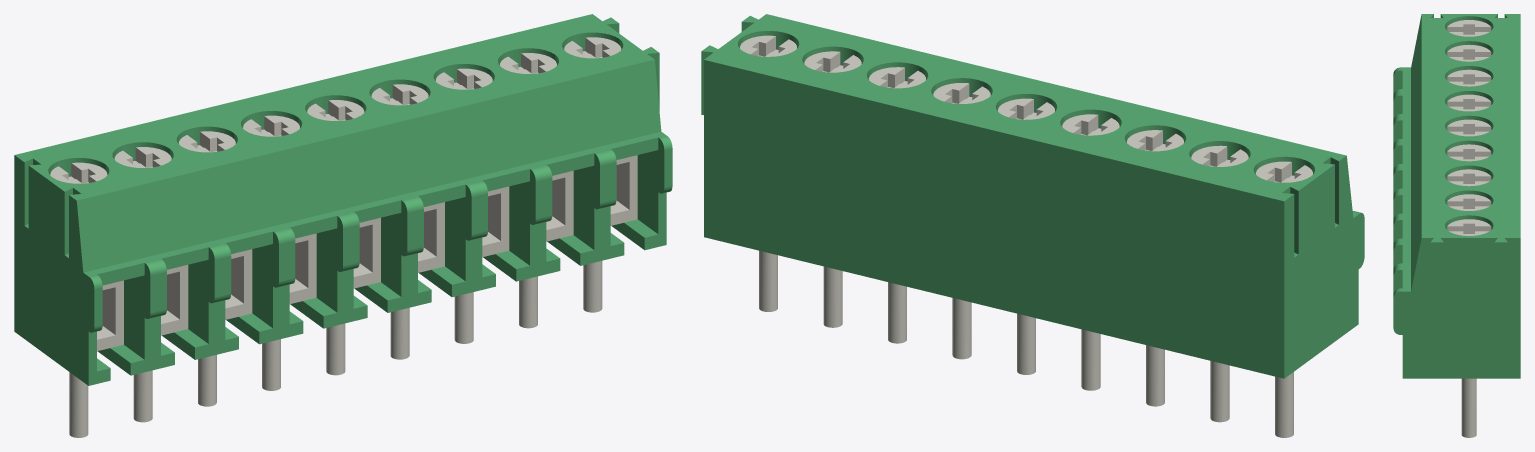
The model's file is kc-terminalblock_phoenix_pt-1_5-9-3.5-h_1x09_p3.50mm_horizontal.glb.
3 views of the same model, side by side, from view 1: azimuth 30°, elevation 25°; view 2: azimuth 150°, elevation 25°; view 3: azimuth 270°, elevation 25° (orthographic). The views are drawn at different scales.
Visible parts, largest first — view 1: 0.08333333333333333_0.4166666666666667_0.16666666666666666_0, 0.6666666666666666_0.6666666666666666_0.5833333333333334_0.8; view 2: 0.08333333333333333_0.4166666666666667_0.16666666666666666_0, 0.6666666666666666_0.6666666666666666_0.5833333333333334_0.8; view 3: 0.08333333333333333_0.4166666666666667_0.16666666666666666_0, 0.6666666666666666_0.6666666666666666_0.5833333333333334_0.8.
Boxes of the visible parts, x1,y1,x2,y2 form: 0.08333333333333333_0.4166666666666667_0.16666666666666666_0: [14, 14, 672, 385]; 0.6666666666666666_0.6666666666666666_0.5833333333333334_0.8: [50, 37, 637, 437]; 0.08333333333333333_0.4166666666666667_0.16666666666666666_0: [701, 14, 1364, 378]; 0.6666666666666666_0.6666666666666666_0.5833333333333334_0.8: [740, 35, 1312, 437]; 0.08333333333333333_0.4166666666666667_0.16666666666666666_0: [1393, 14, 1520, 378]; 0.6666666666666666_0.6666666666666666_0.5833333333333334_0.8: [1447, 20, 1491, 437].
Bounding box in the file's own units: 3.21 × 1.37 × 0.7548.
